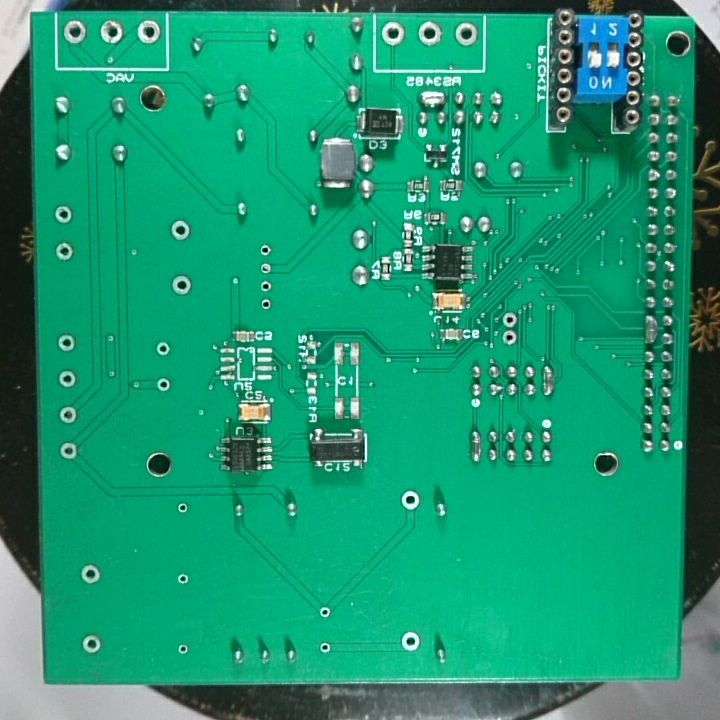F: (414, 17, 441, 48), (167, 215, 194, 246), (451, 20, 479, 48), (96, 18, 125, 45), (134, 18, 163, 45), (61, 18, 88, 45), (379, 20, 406, 46), (77, 561, 103, 586), (79, 632, 104, 658), (168, 272, 193, 298), (398, 486, 422, 512), (398, 628, 422, 653), (53, 238, 76, 263), (54, 331, 77, 355), (57, 403, 78, 428), (57, 438, 78, 463), (52, 203, 74, 226), (56, 366, 77, 389), (500, 309, 521, 331), (154, 374, 174, 394), (154, 338, 173, 359), (257, 276, 274, 297), (257, 259, 275, 278), (500, 329, 518, 348), (175, 640, 191, 660), (174, 569, 191, 587), (174, 499, 191, 517), (317, 603, 333, 621), (317, 639, 332, 658), (257, 296, 274, 312), (257, 240, 272, 258)
P: (641, 313, 661, 347), (415, 89, 449, 107), (468, 427, 484, 465), (541, 363, 554, 400)
